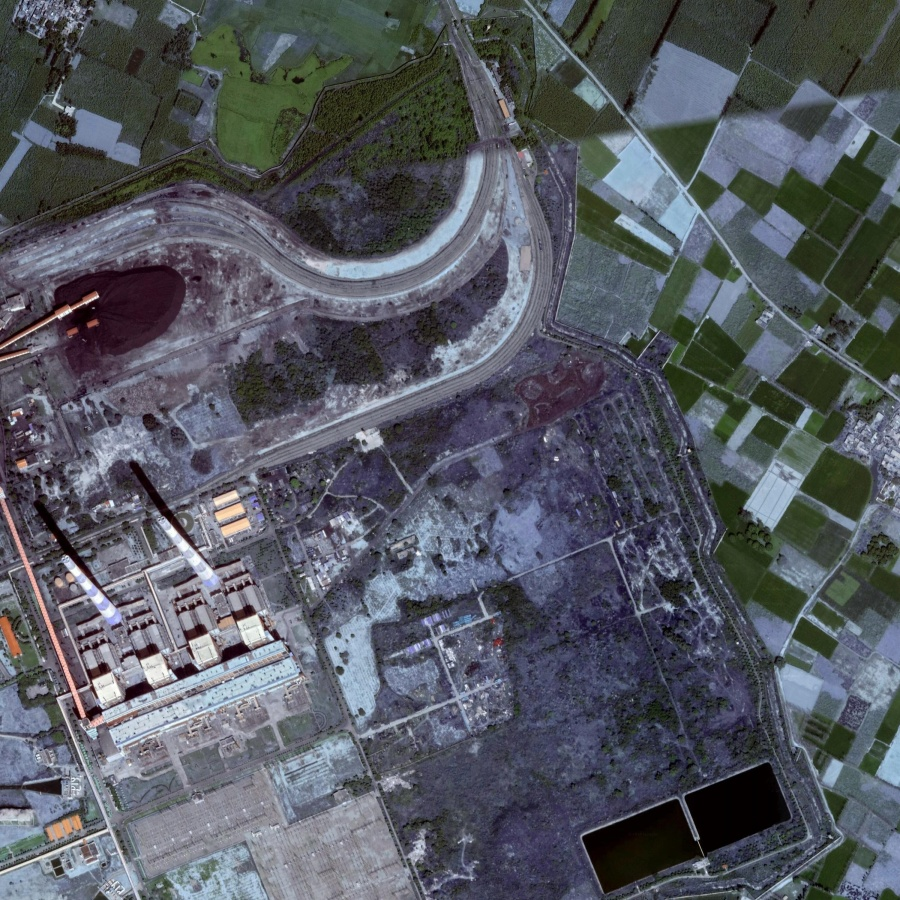PowerPlant: (23, 453, 260, 658)
